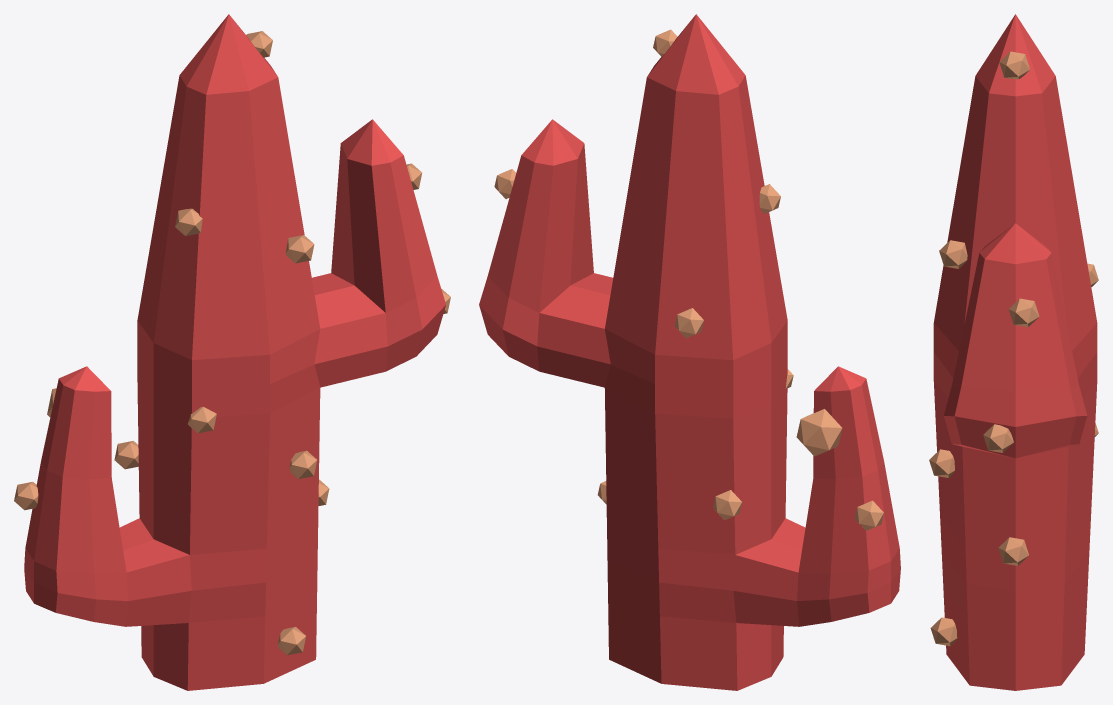
The model's file is 01_01Cactus_Red.fbx.
3 renders of one model, left to right at view 1: azimuth 30°, elevation 25°; view 2: azimuth 150°, elevation 25°; view 3: azimuth 270°, elevation 25°, orthographic.
Parts seen in each view (by area): view 1: Cube.014; view 2: Cube.014; view 3: Cube.014.
Boxes of the visible parts, left/top/right/bottom form: Cube.014: left=14, top=14, right=450, bottom=690; Cube.014: left=479, top=14, right=900, bottom=690; Cube.014: left=929, top=14, right=1098, bottom=690.
Bounding box in the file's own units: 93.75 × 141 × 33.78.
